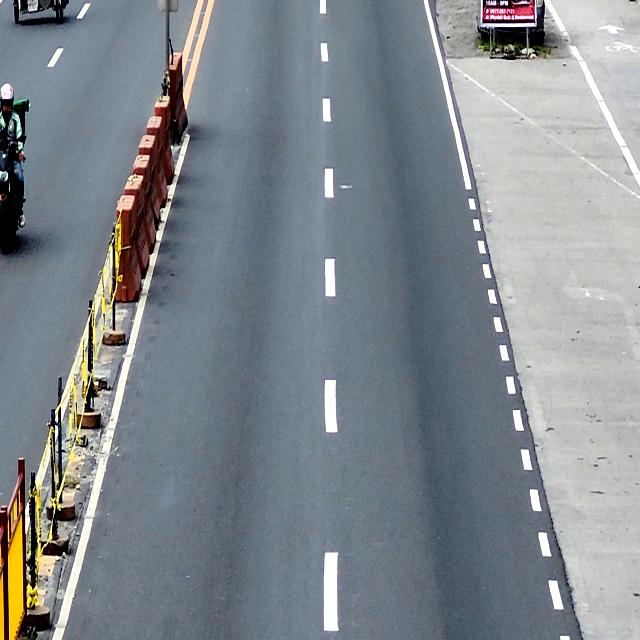Motorcycle: (0, 136, 27, 255)
